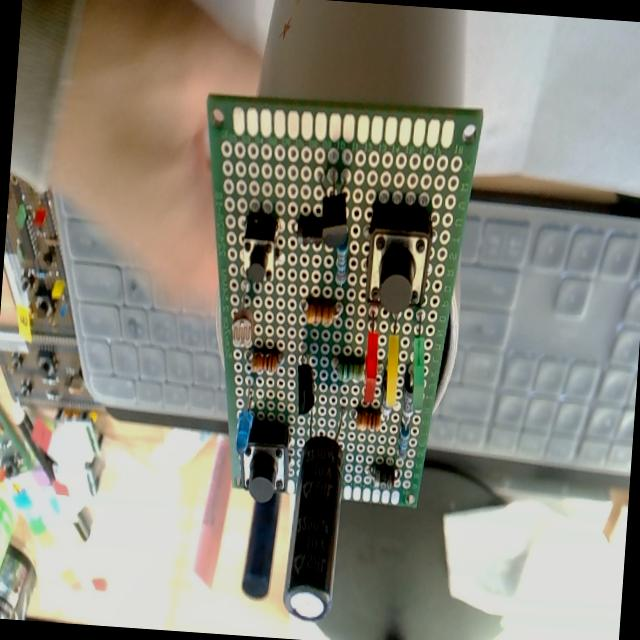Electrolytic capacitor: (282, 434, 346, 622)
cds: (229, 310, 254, 348)
diode: (288, 214, 325, 250), (367, 463, 397, 489), (401, 368, 415, 417)
led: (362, 301, 382, 406), (408, 310, 428, 411), (383, 312, 403, 408), (234, 386, 256, 456)
resistor: (394, 414, 414, 466), (330, 355, 364, 383), (250, 348, 284, 374), (304, 300, 334, 326), (334, 240, 349, 286), (354, 408, 380, 432)
switch: (364, 208, 432, 314), (238, 417, 292, 506), (240, 214, 280, 287)
transistor: (318, 164, 354, 251), (294, 344, 319, 417)
